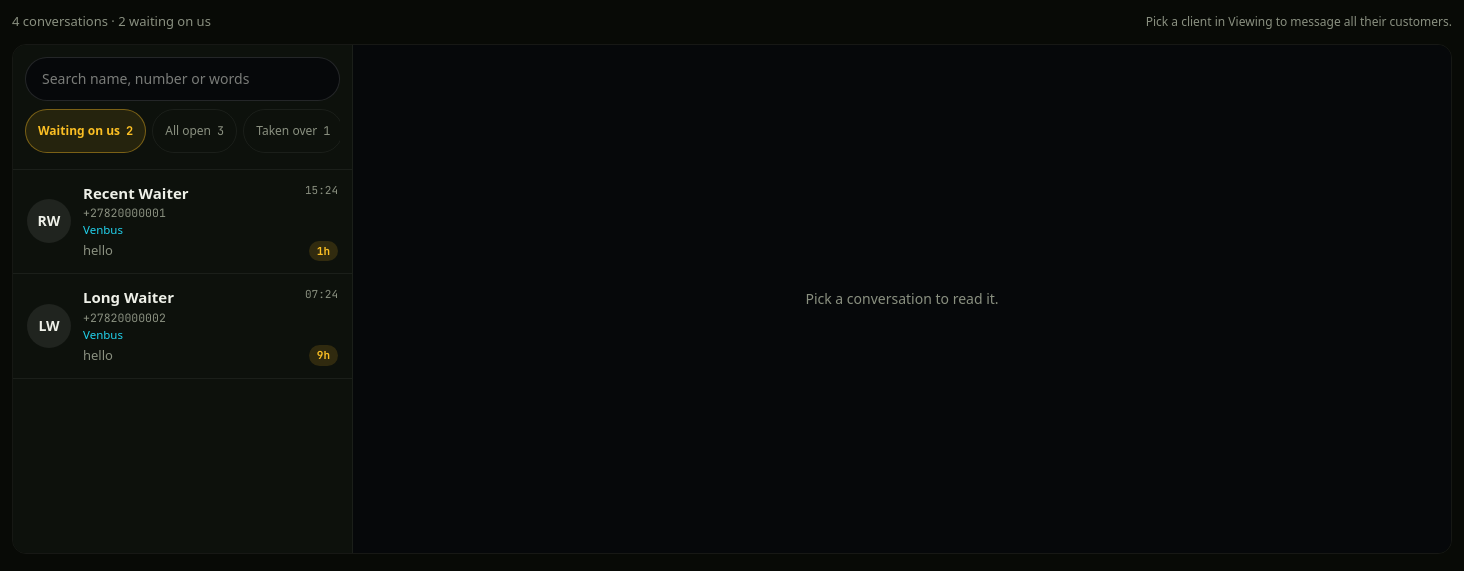
Scenario: a conversation › puts a saved reply into the box, never straight to the customer
Click the text "Long Waiter".
click(128, 297)  # box [83,286,174,308]
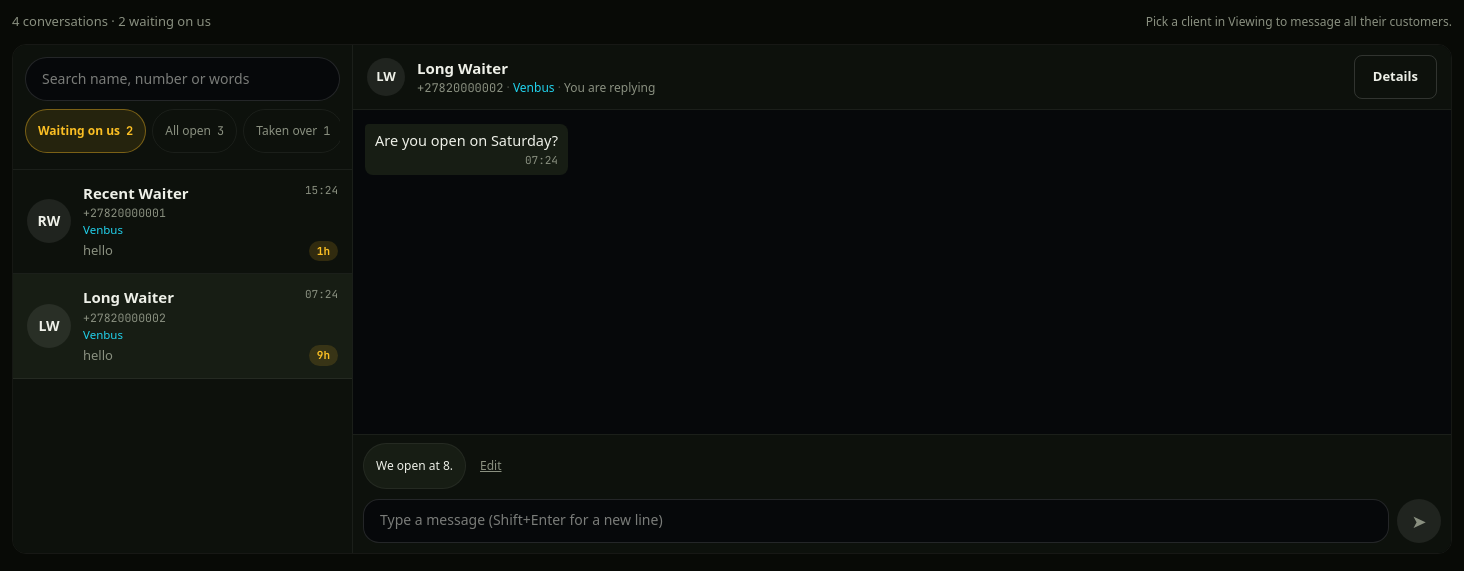
Click the button "We open at 8.".
click(414, 466)  # box [364,444,465,488]
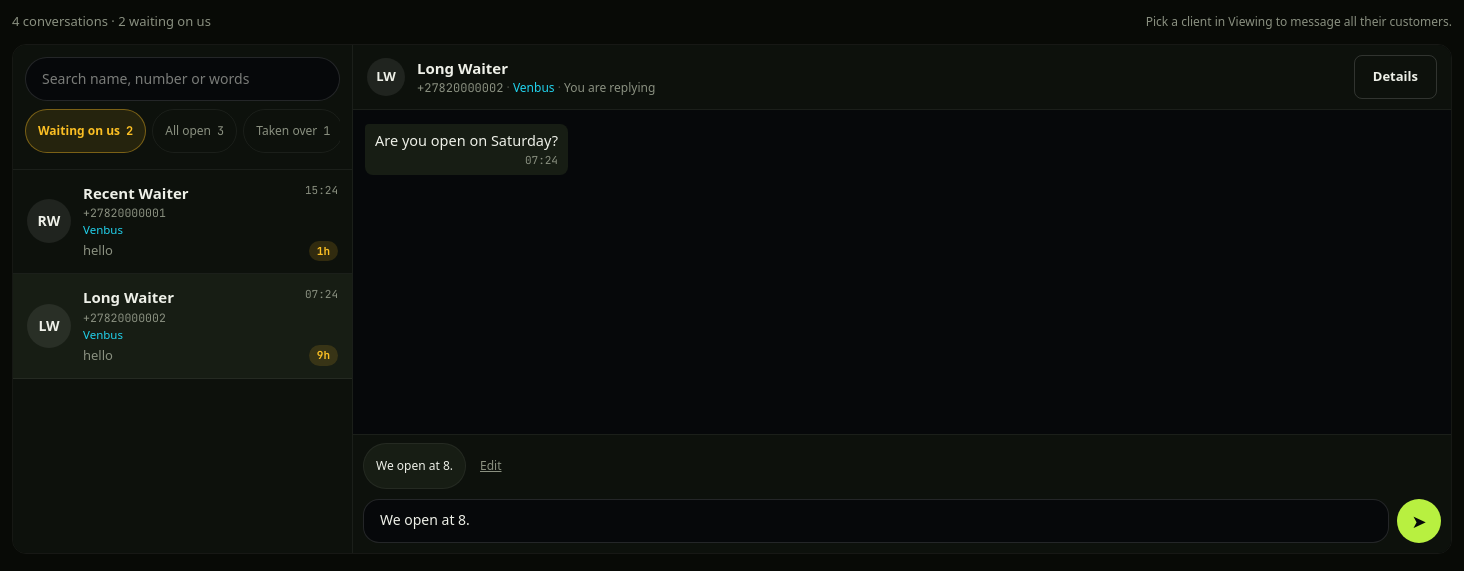
Result: the text box named "message" holds "We open at 8." at [363,498,1389,542]
